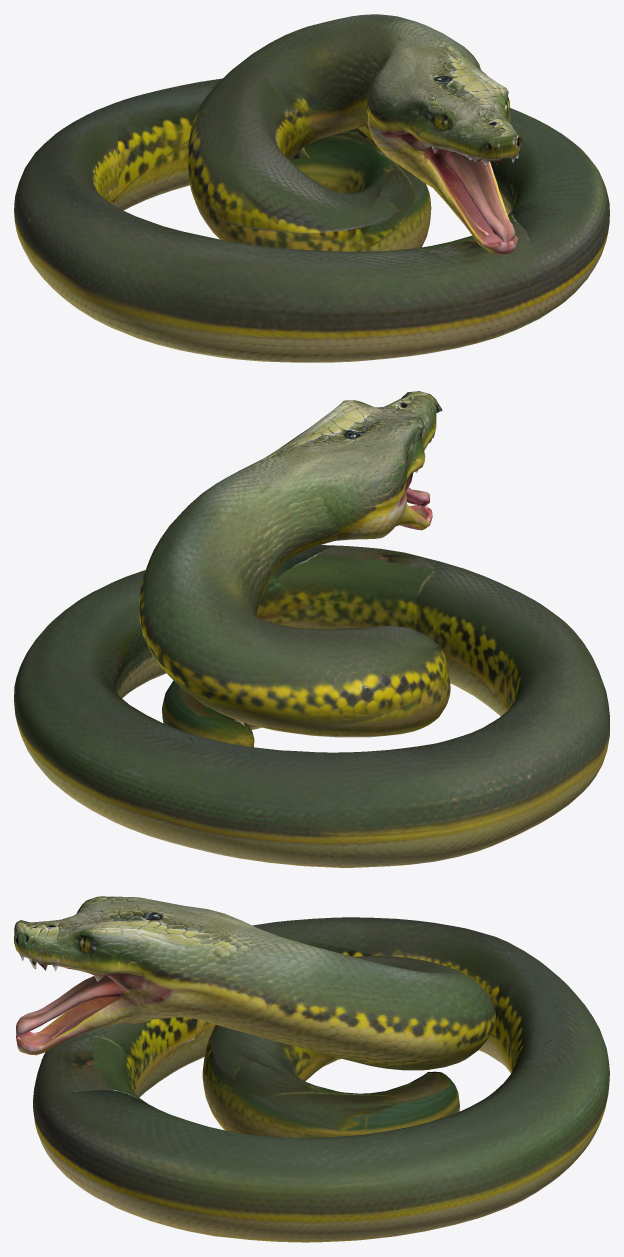
Rendered from Anaconda.fbx.
The picture shows the model from 3 angles, top to bottom: view 1: azimuth 30°, elevation 25°; view 2: azimuth 150°, elevation 25°; view 3: azimuth 270°, elevation 25°; orthographic projection. The views are drawn at different scales.
Visible parts, largest first — view 1: Mesh_0.004; view 2: Mesh_0.004; view 3: Mesh_0.004.
Part boxes in pixels (x1,y1,x2,y2): Mesh_0.004: [14, 14, 609, 362]; Mesh_0.004: [14, 391, 609, 867]; Mesh_0.004: [14, 896, 609, 1242].
Size of the model in its own units: 200 by 89.33 by 196.
1 material, 1 textured.
